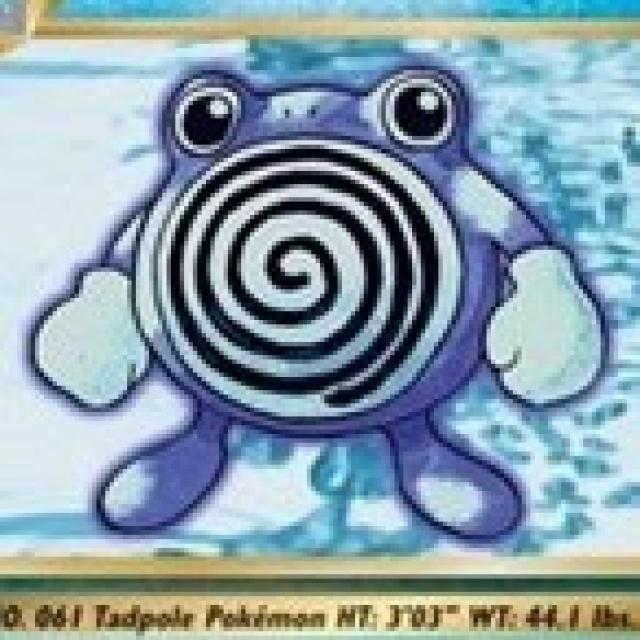Poliwhirl: (71, 69, 604, 542)
